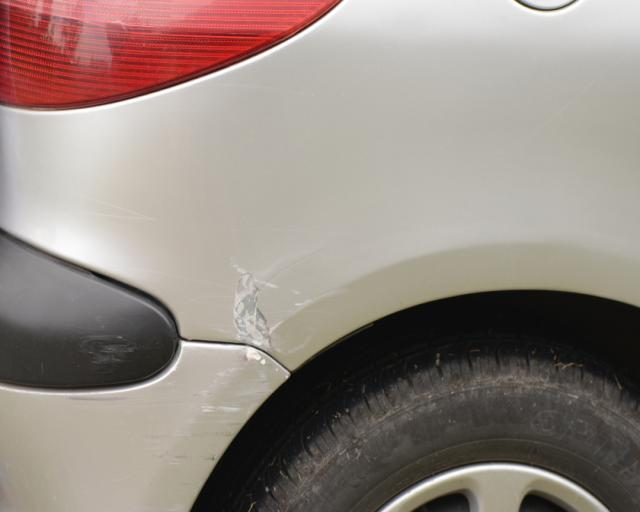scratch: (148, 353, 277, 469), (226, 263, 346, 362)
